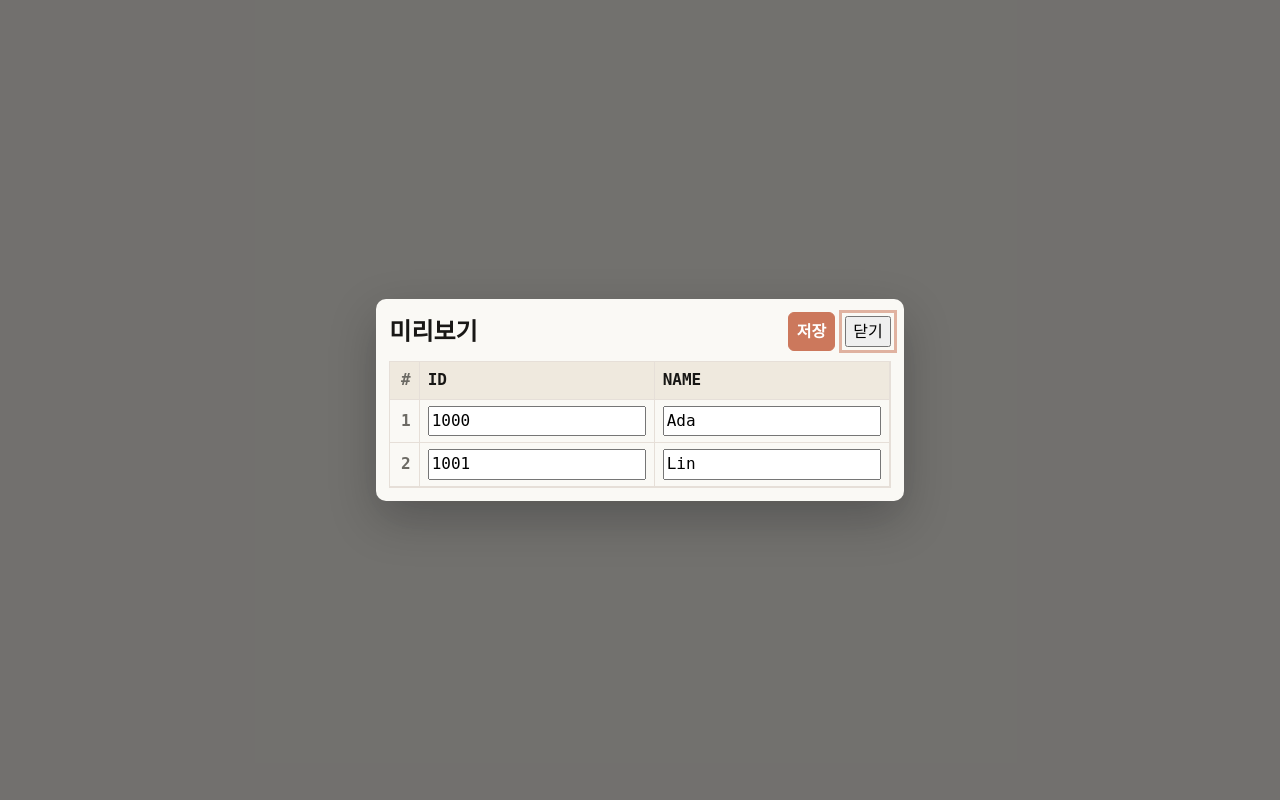
Scenario: copies the first row into appended rows when the # header is used
Double-click the column heading "#": [405, 380] box top-left (390, 362), bottom-right (419, 399)
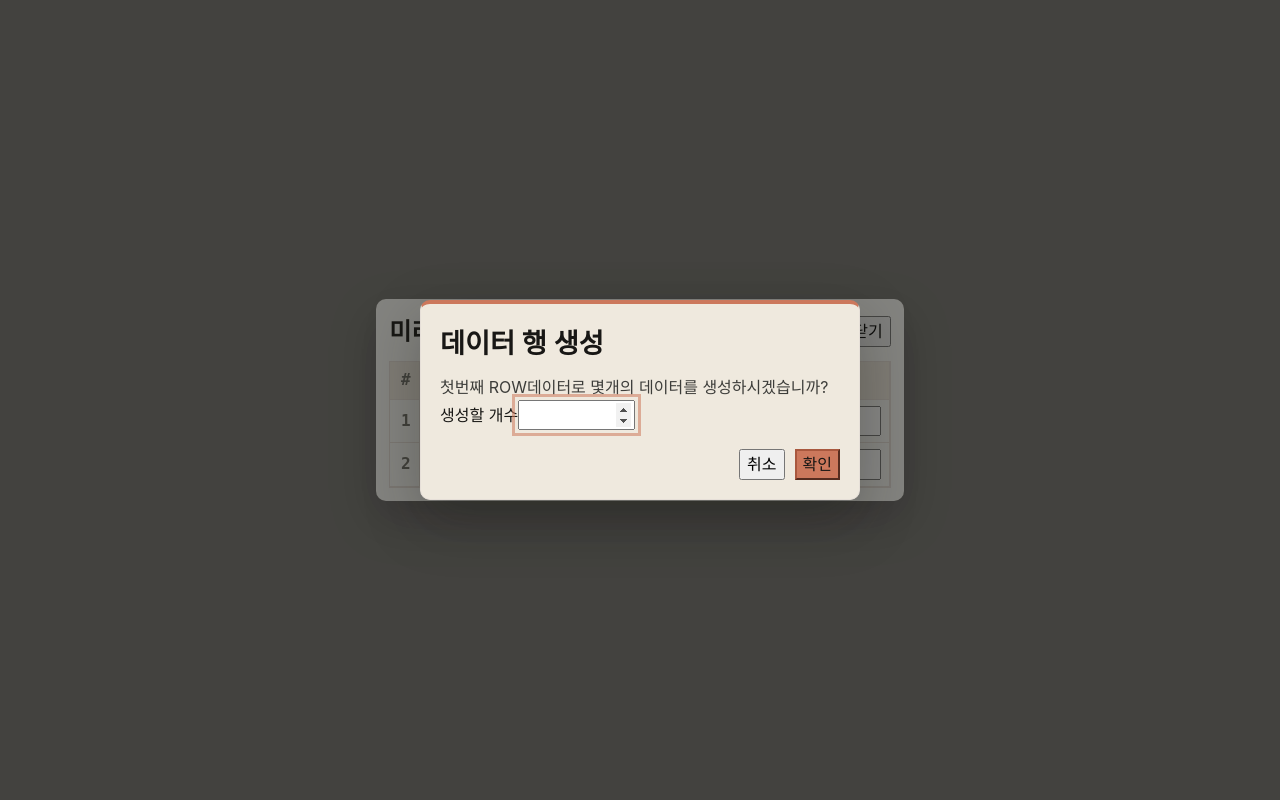
Expected: the dialog "데이터 행 생성" is shown, top-left (420, 300), bottom-right (860, 500)
In the number field labelled "생성할 개수": [577, 415] box top-left (518, 400), bottom-right (635, 430), type "2"
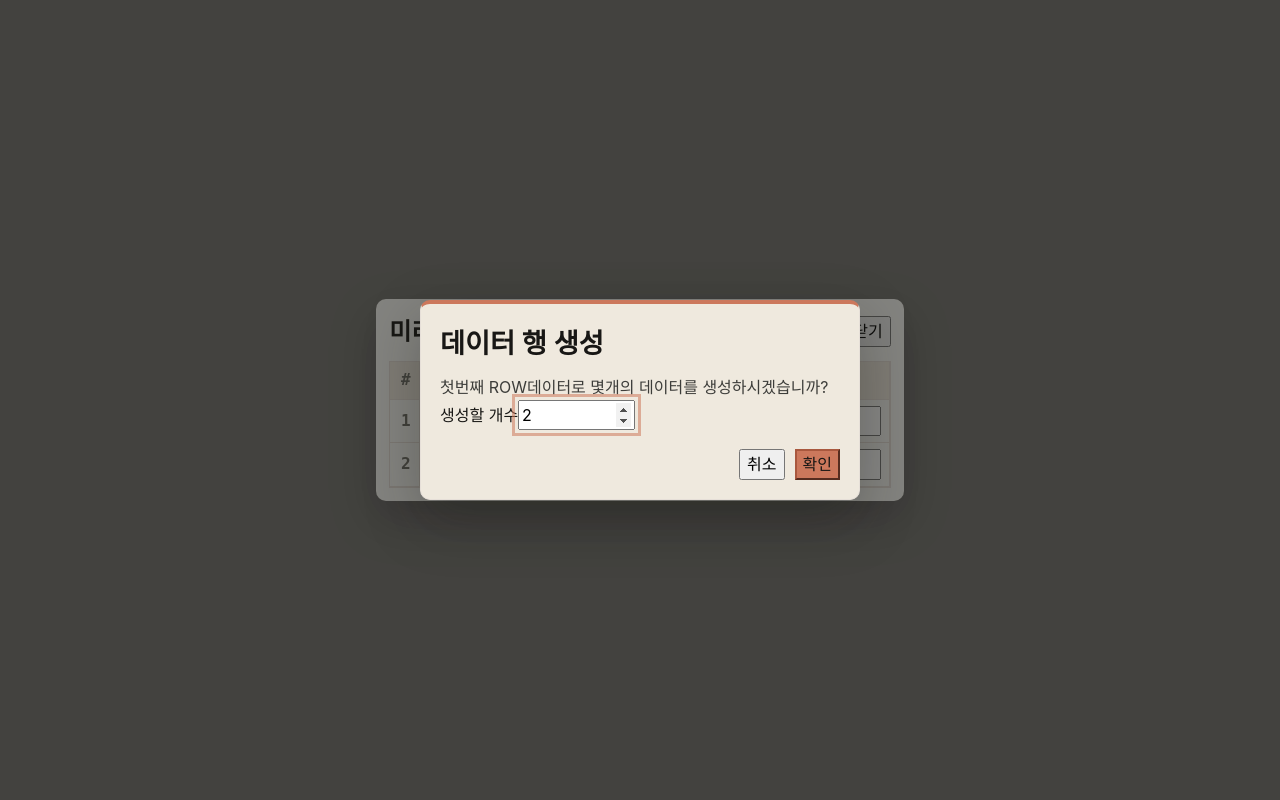
Click the button "확인": [817, 465] box top-left (794, 450), bottom-right (840, 480)
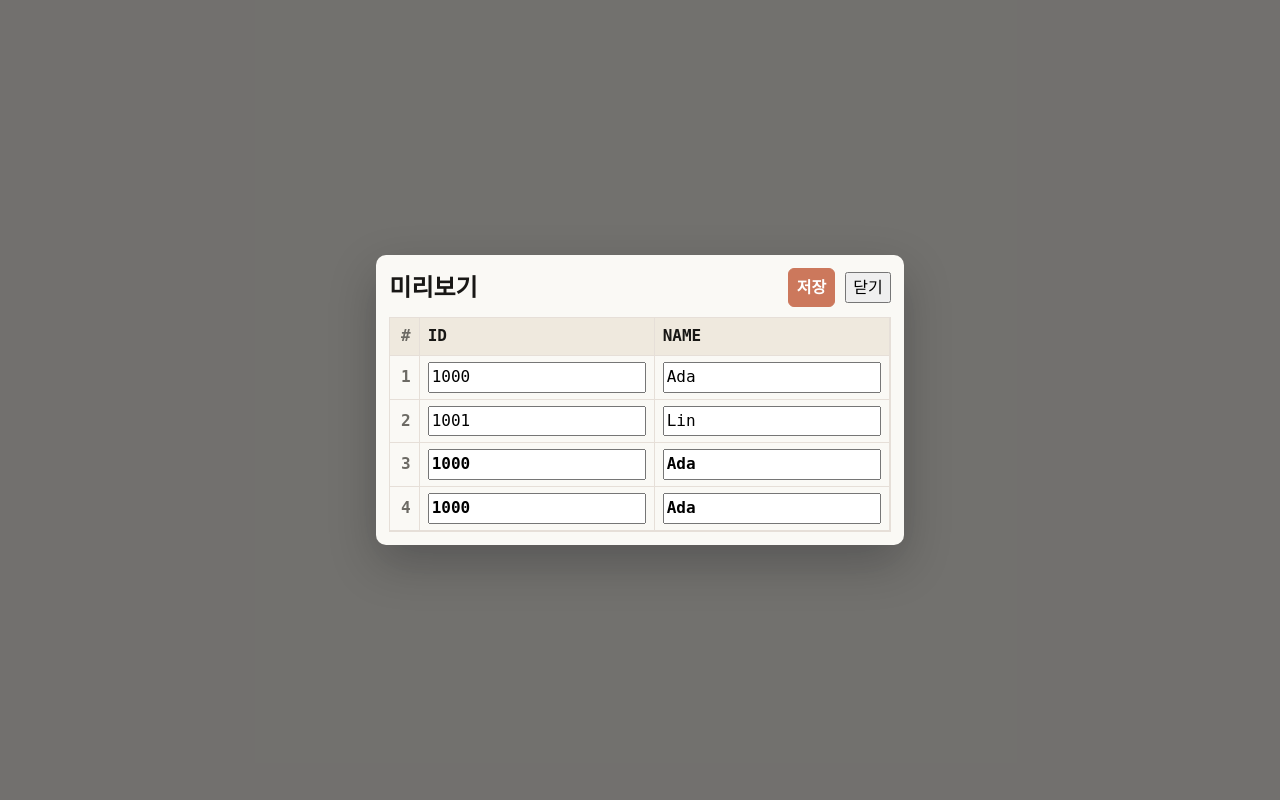
Expected: the field named "ID row 3" holds "1000", top-left (428, 449), bottom-right (646, 480)
Expected: the field named "NAME row 3" holds "Ada", top-left (663, 449), bottom-right (881, 480)
Expected: the field named "ID row 4" holds "1000", top-left (428, 493), bottom-right (646, 524)
